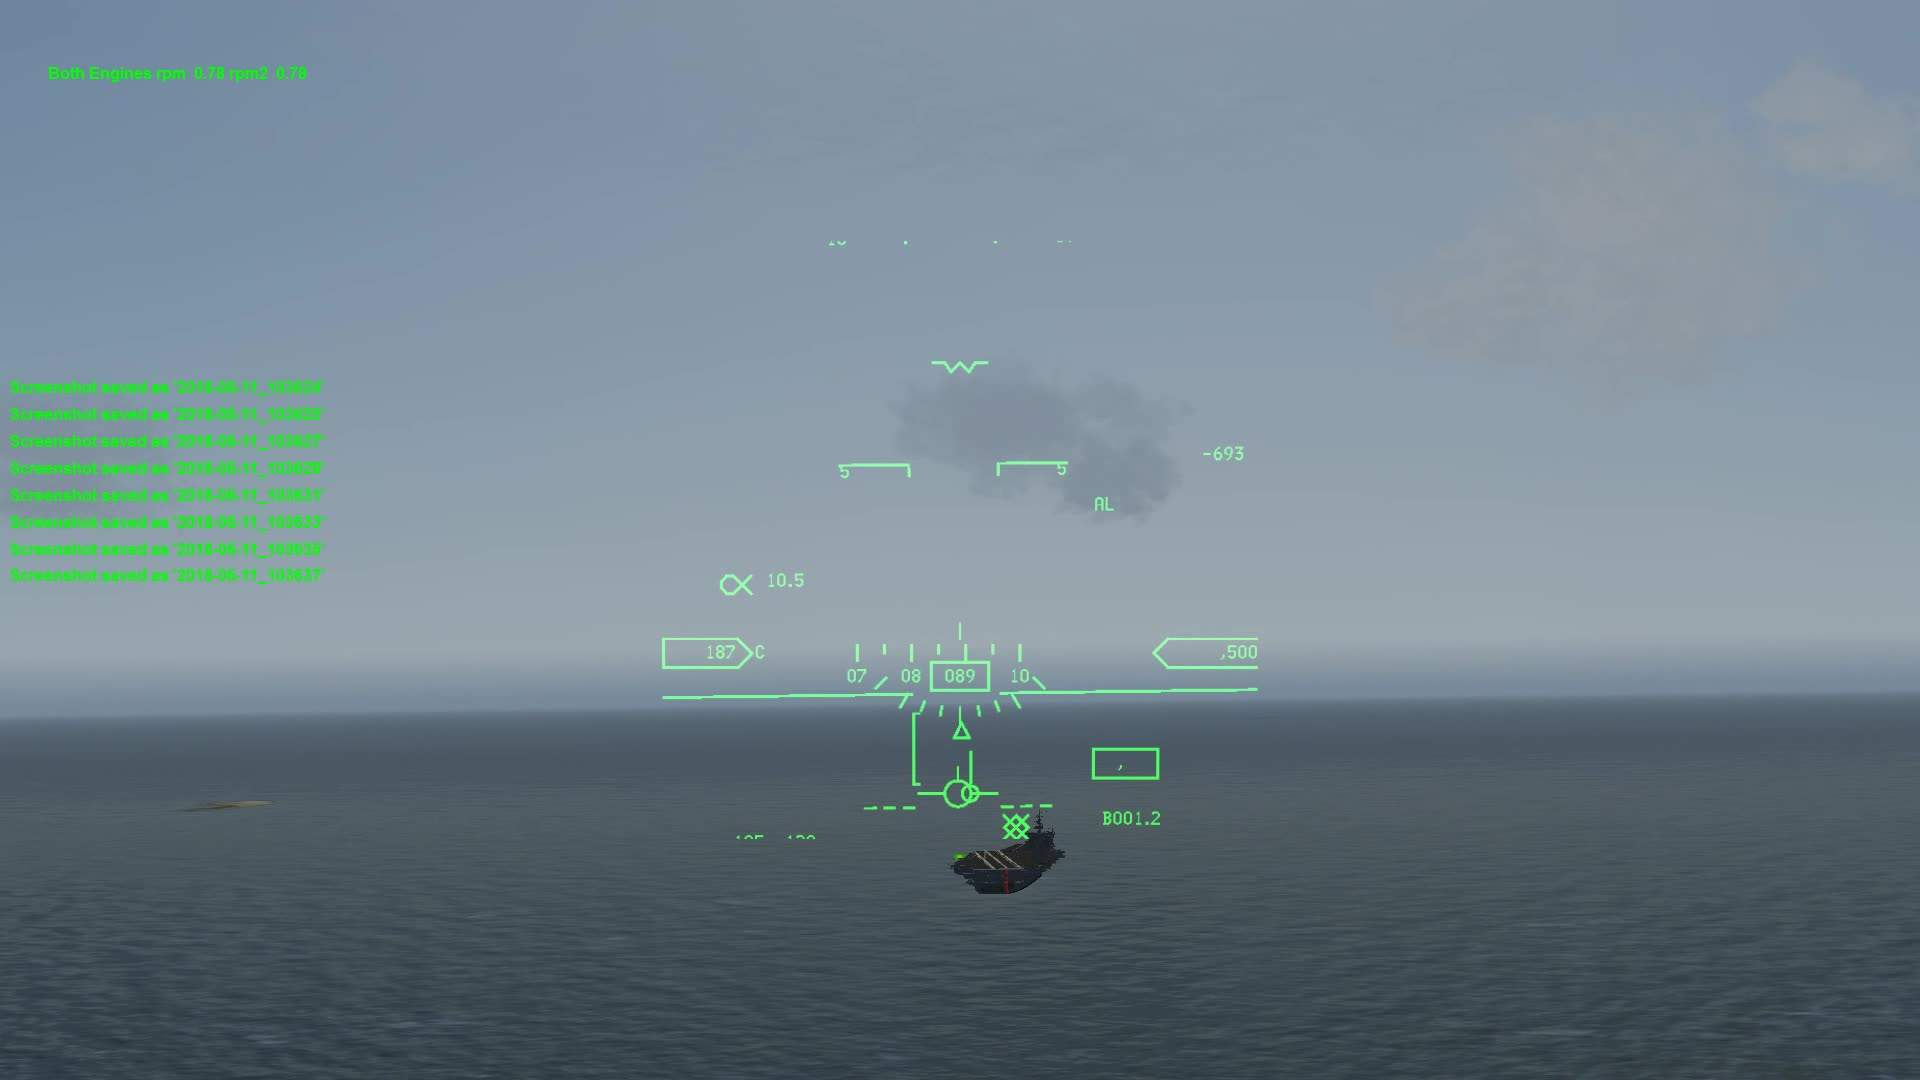speed vector: (920, 761, 1004, 808)
